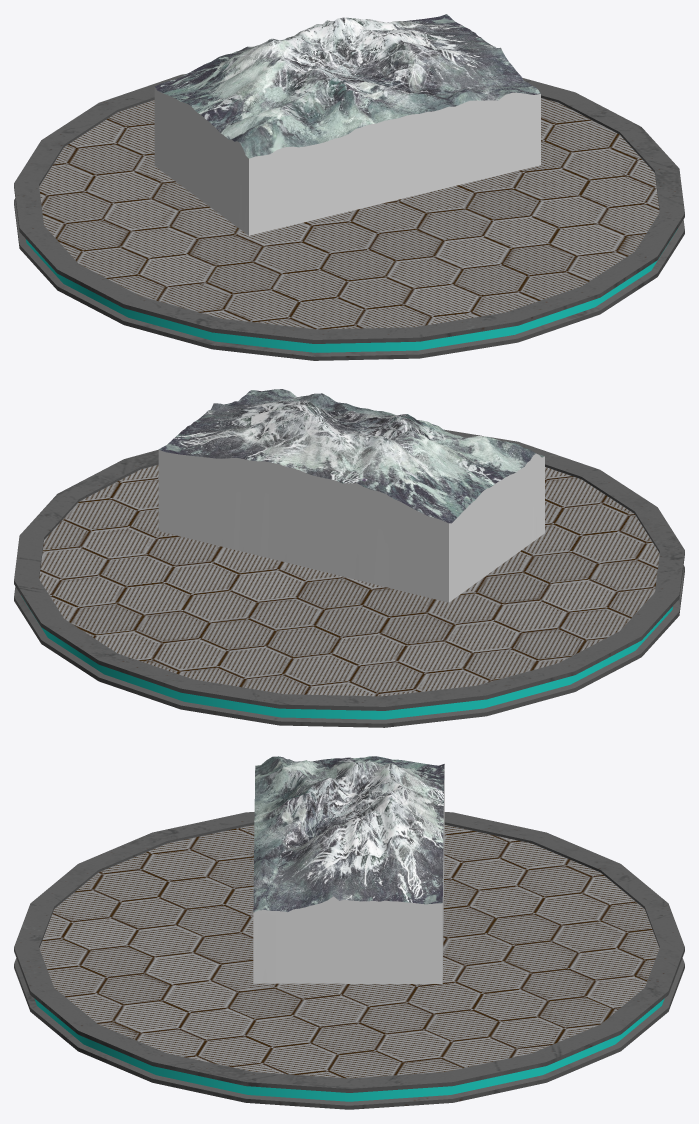
3 renders of one model, top to bottom at view 1: azimuth 30°, elevation 25°; view 2: azimuth 150°, elevation 25°; view 3: azimuth 270°, elevation 25°, orthographic.
Visible parts, largest first — view 1: pCylinder1, Mountain; view 2: pCylinder1, Mountain; view 3: pCylinder1, Mountain.
Boxes of the visible parts, x1,y1,x2,y2 form: pCylinder1: [14, 74, 684, 360]; Mountain: [154, 14, 540, 235]; pCylinder1: [14, 429, 684, 727]; Mountain: [158, 389, 544, 602]; pCylinder1: [14, 812, 684, 1109]; Mountain: [253, 756, 444, 983].
Bounding box in the file's own units: 2 × 0.5971 × 2.
3 materials, 2 textured.
